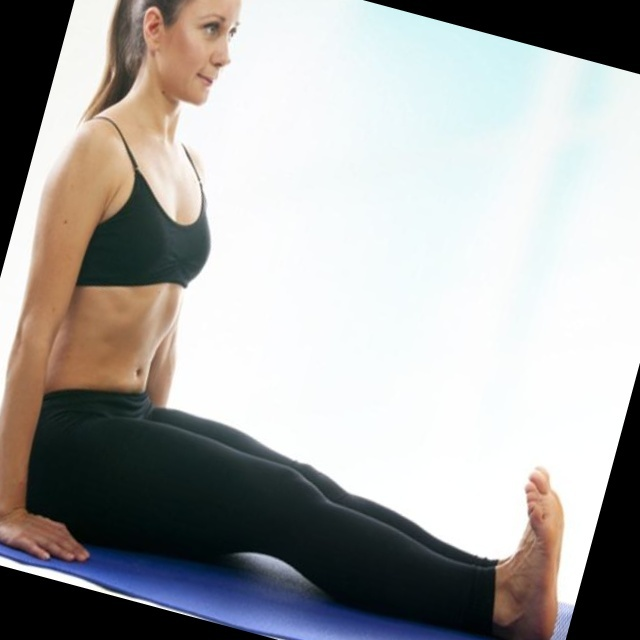Staff_Pose: (3, 1, 565, 635)
